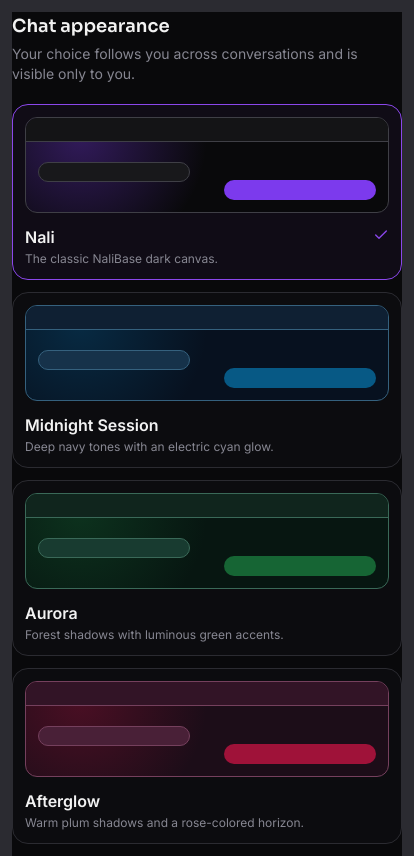
Test: chat theme settings › persists an entitled premium selection through the server function
The image size is (414, 856).
Click the radio button labelled "Aurora Forest shadows with luminous green accents.": (207, 568) [12,480,402,656]
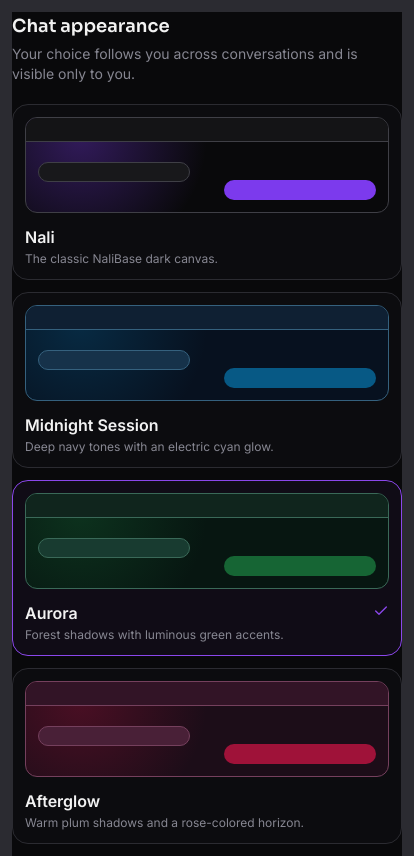
Now the radio button labelled "Aurora Forest shadows with luminous green accents." is checked, box [12,480,402,656]
